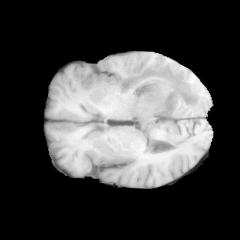glioma: (119, 63, 201, 135)
